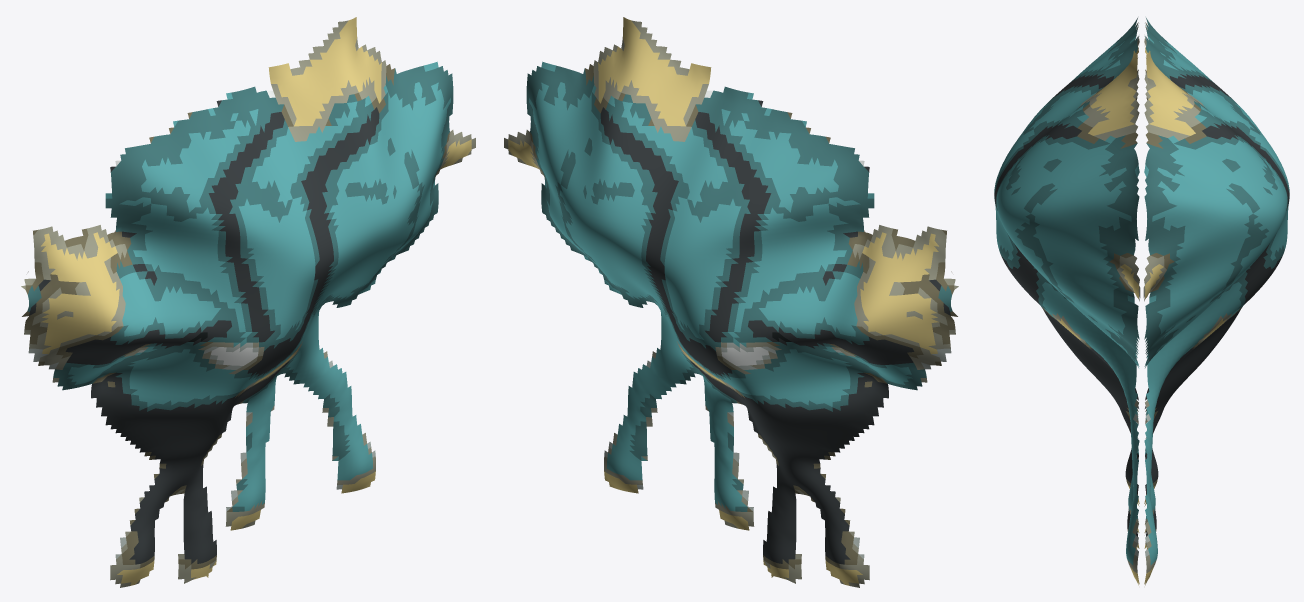
The model's file is rideer.glb.
3 renders of one model, left to right at view 1: azimuth 30°, elevation 25°; view 2: azimuth 150°, elevation 25°; view 3: azimuth 270°, elevation 25°, orthographic. The views are drawn at different scales.
Visible parts, largest first — view 1: rideer; view 2: rideer; view 3: rideer.
Part boxes in pixels (x1,y1,x2,y2): rideer: (21, 17, 475, 587); rideer: (504, 17, 958, 587); rideer: (994, 18, 1289, 585).
Bounding box in the file's own units: 602 × 659 × 304.
